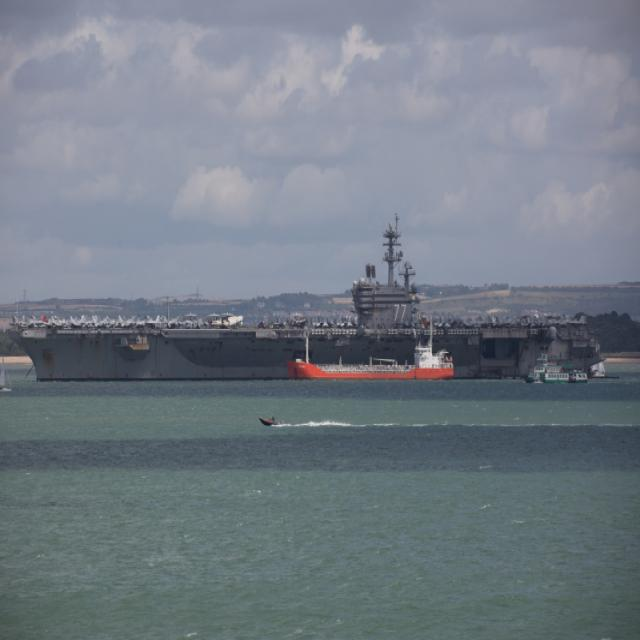Portanaves: (10, 211, 615, 388)
